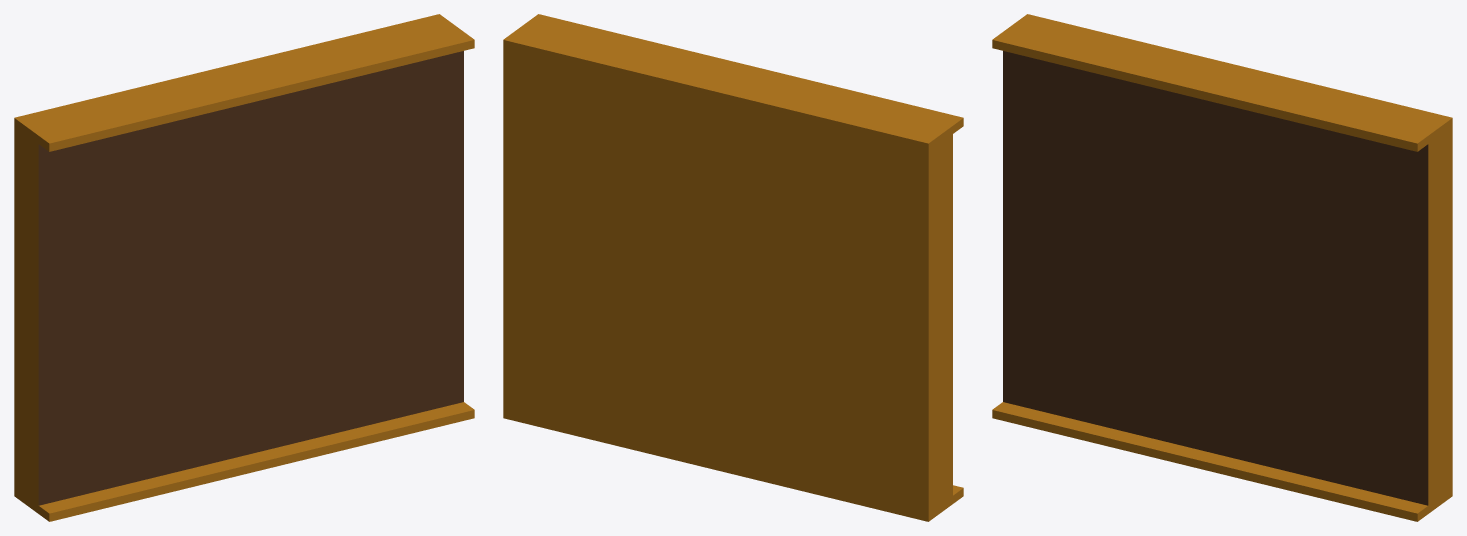
Rendered from ramp_flat.glb.
3 views of the same model, side by side, from view 1: azimuth 30°, elevation 25°; view 2: azimuth 150°, elevation 25°; view 3: azimuth 330°, elevation 25° (orthographic).
Visible parts, largest first — view 1: bridge_11_ramp_flat; view 2: bridge_11_ramp_flat; view 3: bridge_11_ramp_flat.
Part boxes in pixels (x1=…): bridge_11_ramp_flat: x1=14, y1=14, x2=474, y2=521; bridge_11_ramp_flat: x1=503, y1=14, x2=963, y2=521; bridge_11_ramp_flat: x1=992, y1=14, x2=1452, y2=521.
Bounding box in the file's own units: 16 × 13.6 × 2.3.
